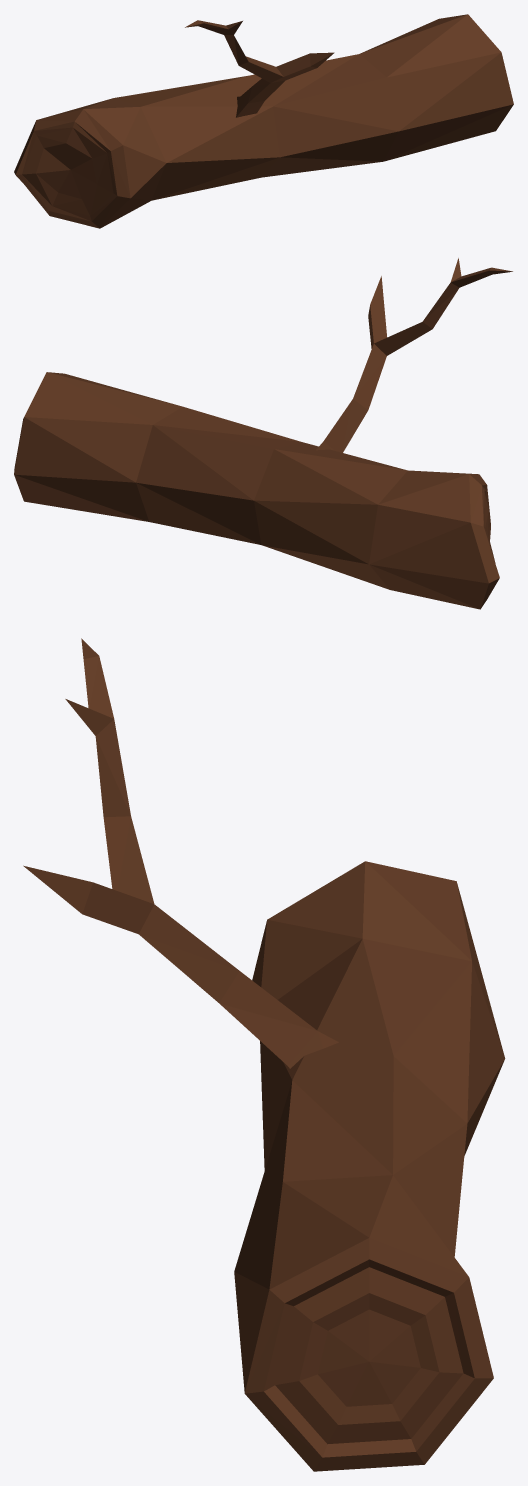
File: FallenLog2.fbx
The picture shows the model from 3 angles, top to bottom: view 1: azimuth 30°, elevation 25°; view 2: azimuth 150°, elevation 25°; view 3: azimuth 270°, elevation 25°; orthographic projection. The views are drawn at different scales.
Visible parts, largest first — view 1: FallenLog2; view 2: FallenLog2; view 3: FallenLog2.
Boxes of the visible parts, box(x1,y1,x2,y2) form: FallenLog2: box(14, 14, 513, 228); FallenLog2: box(14, 258, 512, 609); FallenLog2: box(23, 638, 505, 1471).
Bounding box in the file's own units: 231 × 116 × 107.
